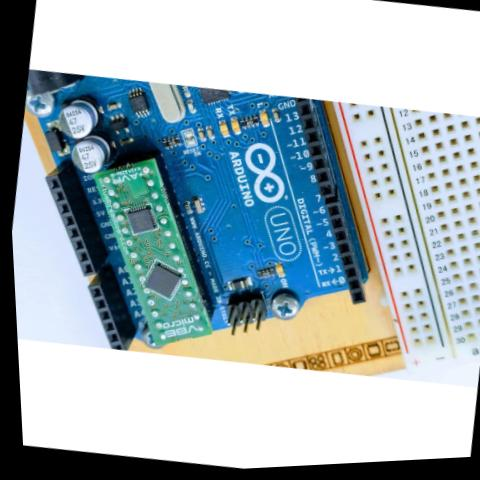Arduino-Uno: (3, 54, 397, 392)
